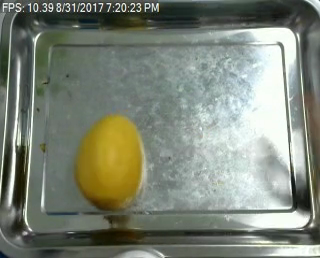Mango: (70, 114, 146, 207)
